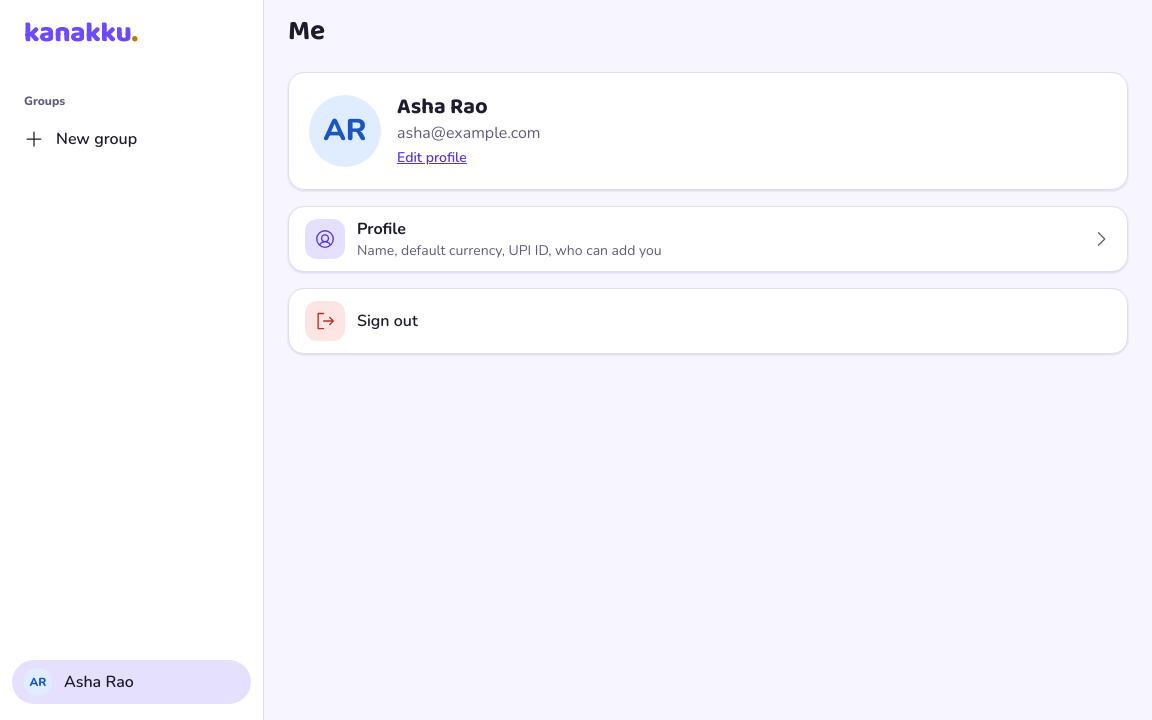
Scenario: MePage › keeps the person here with words when sign-out fails
This screenshot has width=1152, height=720.
Click the button "Sign out": {"x": 325, "y": 321} [289,289,1127,353]
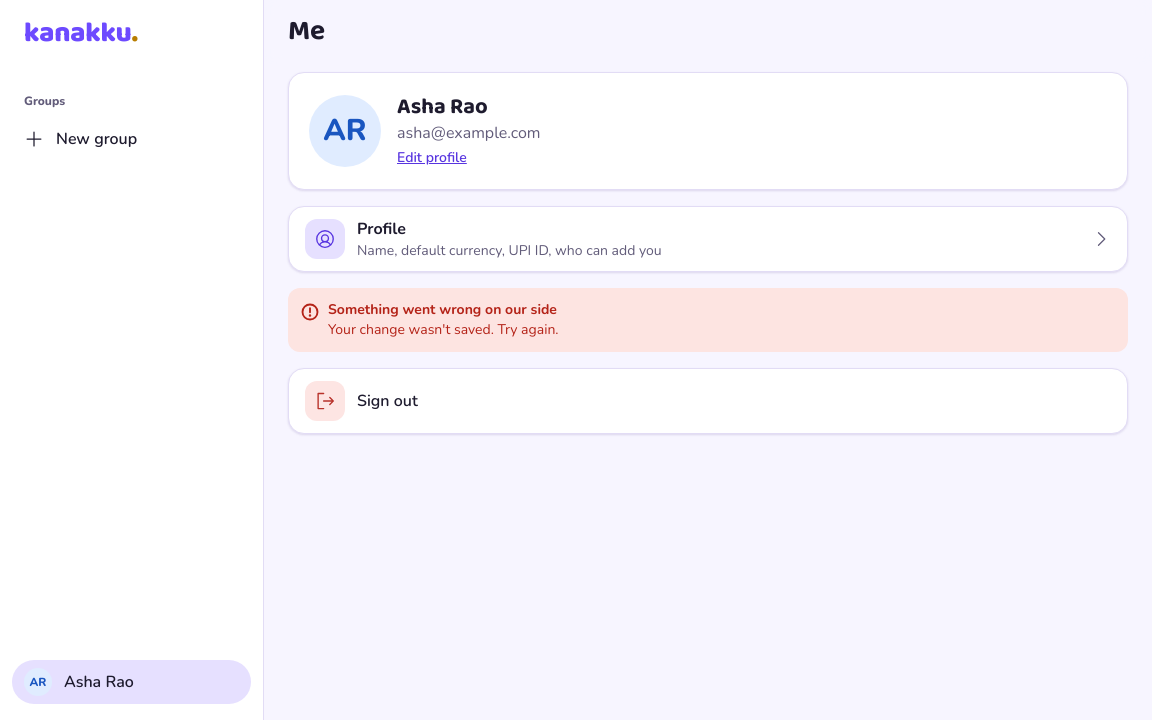
Expected: the message shows "our side", [328,300,557,319]
